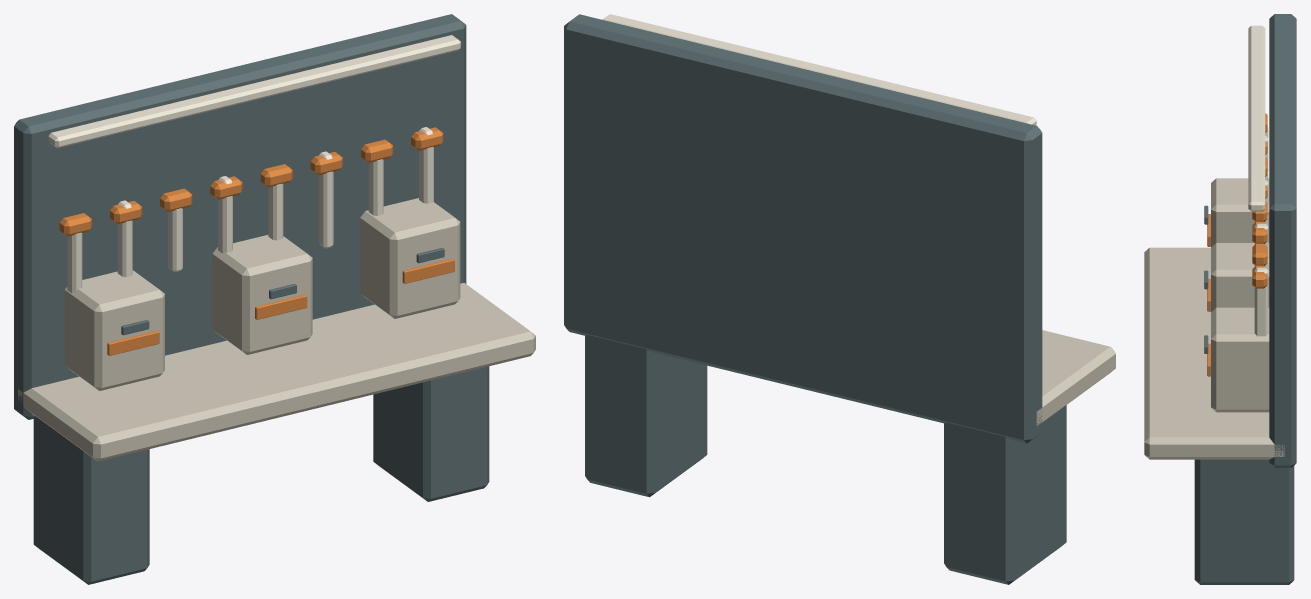
Rendered from workwall.glb.
3 renders of one model, left to right at view 1: azimuth 30°, elevation 25°; view 2: azimuth 150°, elevation 25°; view 3: azimuth 270°, elevation 25°, orthographic. The views are drawn at different scales.
Visible parts, largest first — view 1: workwall; view 2: workwall; view 3: workwall.
Part boxes in pixels (x1=…): workwall: x1=14, y1=14, x2=535, y2=584; workwall: x1=564, y1=14, x2=1115, y2=584; workwall: x1=1144, y1=14, x2=1296, y2=584.
Size of the model in its own units: 3 by 2.8 by 0.995.
